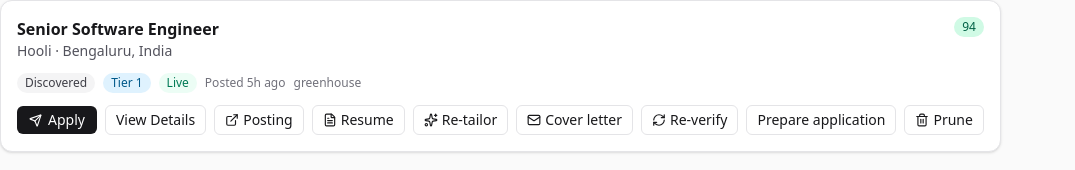
it: JobCard Actions › offers Re-tailor once a resume exists and shows its progress
Click the button "Re-tailor". click: (460, 120)
box: x1=413 y1=105 x2=508 y2=135
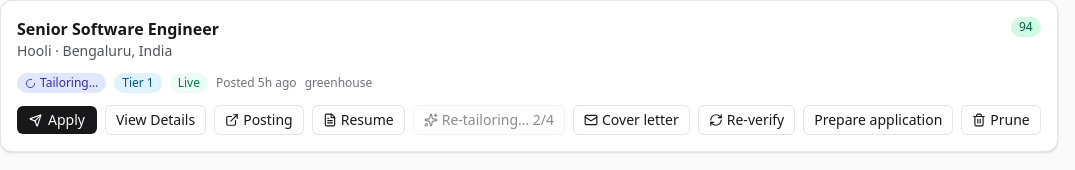
Expected: the link "Resume" is shown, x1=312 y1=105 x2=405 y2=135
Expected: the button "Re-tailoring… 2/4" is disabled, x1=413 y1=105 x2=565 y2=135
